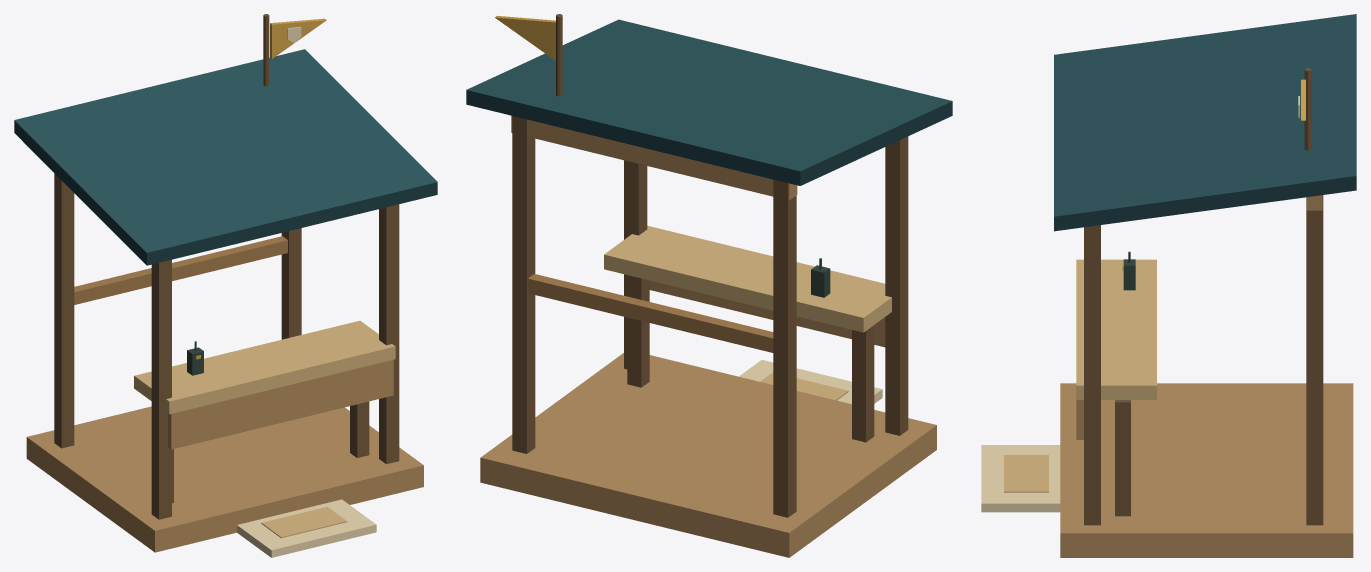
The model's file is lwf_security_post_v1.glb.
3 views of the same model, side by side, from view 1: azimuth 30°, elevation 25°; view 2: azimuth 150°, elevation 25°; view 3: azimuth 270°, elevation 25° (orthographic). The views are drawn at different scales.
Visible parts, largest first — view 1: LWF_SecurityPostV1_TealRoof, LWF_SecurityPostV1_Platform, LWF_SecurityPostV1_TimberFrame, LWF_SecurityPostV1_OpenCounter, LWF_SecurityPostV1_PennantAndRadio; view 2: LWF_SecurityPostV1_Platform, LWF_SecurityPostV1_TealRoof, LWF_SecurityPostV1_TimberFrame, LWF_SecurityPostV1_OpenCounter, LWF_SecurityPostV1_PennantAndRadio; view 3: LWF_SecurityPostV1_TealRoof, LWF_SecurityPostV1_Platform, LWF_SecurityPostV1_TimberFrame, LWF_SecurityPostV1_OpenCounter, LWF_SecurityPostV1_PennantAndRadio.
Part boxes in pixels (x1=…): LWF_SecurityPostV1_TealRoof: x1=14, y1=49, x2=437, y2=265; LWF_SecurityPostV1_Platform: x1=26, y1=406, x2=423, y2=557; LWF_SecurityPostV1_TimberFrame: x1=54, y1=173, x2=399, y2=519; LWF_SecurityPostV1_OpenCounter: x1=134, y1=320, x2=395, y2=503; LWF_SecurityPostV1_PennantAndRadio: x1=187, y1=14, x2=326, y2=375; LWF_SecurityPostV1_Platform: x1=480, y1=353, x2=936, y2=557; LWF_SecurityPostV1_TealRoof: x1=466, y1=19, x2=952, y2=185; LWF_SecurityPostV1_TimberFrame: x1=511, y1=115, x2=908, y2=517; LWF_SecurityPostV1_OpenCounter: x1=604, y1=225, x2=891, y2=442; LWF_SecurityPostV1_PennantAndRadio: x1=495, y1=14, x2=830, y2=297; LWF_SecurityPostV1_TealRoof: x1=1054, y1=14, x2=1356, y2=231; LWF_SecurityPostV1_Platform: x1=981, y1=383, x2=1353, y2=557; LWF_SecurityPostV1_TimberFrame: x1=1084, y1=195, x2=1323, y2=525; LWF_SecurityPostV1_OpenCounter: x1=1076, y1=259, x2=1156, y2=516; LWF_SecurityPostV1_PennantAndRadio: x1=1122, y1=68, x2=1311, y2=290.
Size of the model in its own units: 2.38 by 3.16 by 2.33.
1 material, 1 textured.
